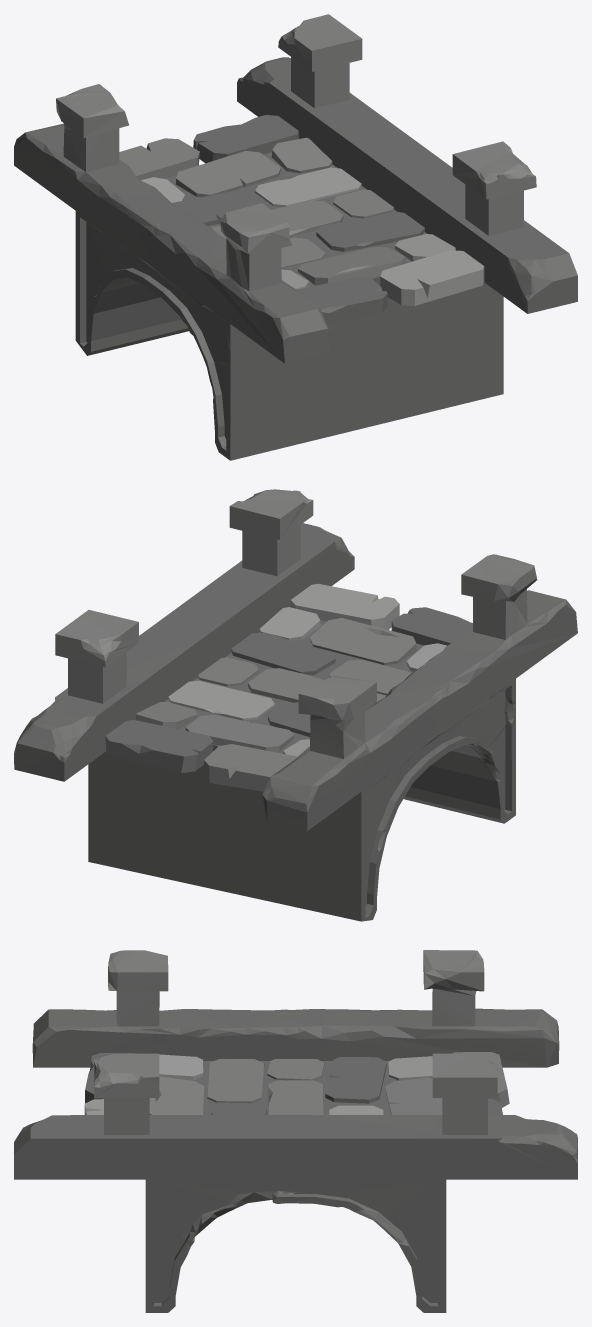
File: stoneBridge_block.glb
3 views of the same model, one above another, from view 1: azimuth 30°, elevation 25°; view 2: azimuth 150°, elevation 25°; view 3: azimuth 270°, elevation 25° (orthographic). The views are drawn at different scales.
Visible parts, largest first — view 1: Bridge_002; view 2: Bridge_002; view 3: Bridge_002.
Part boxes in pixels (x1,y1,x2,y2): Bridge_002: (14, 14, 577, 460); Bridge_002: (14, 489, 577, 921); Bridge_002: (14, 950, 577, 1312).
Bounding box in the file's own units: 1.06 × 0.8766 × 1.88.
1 material, 1 textured.
